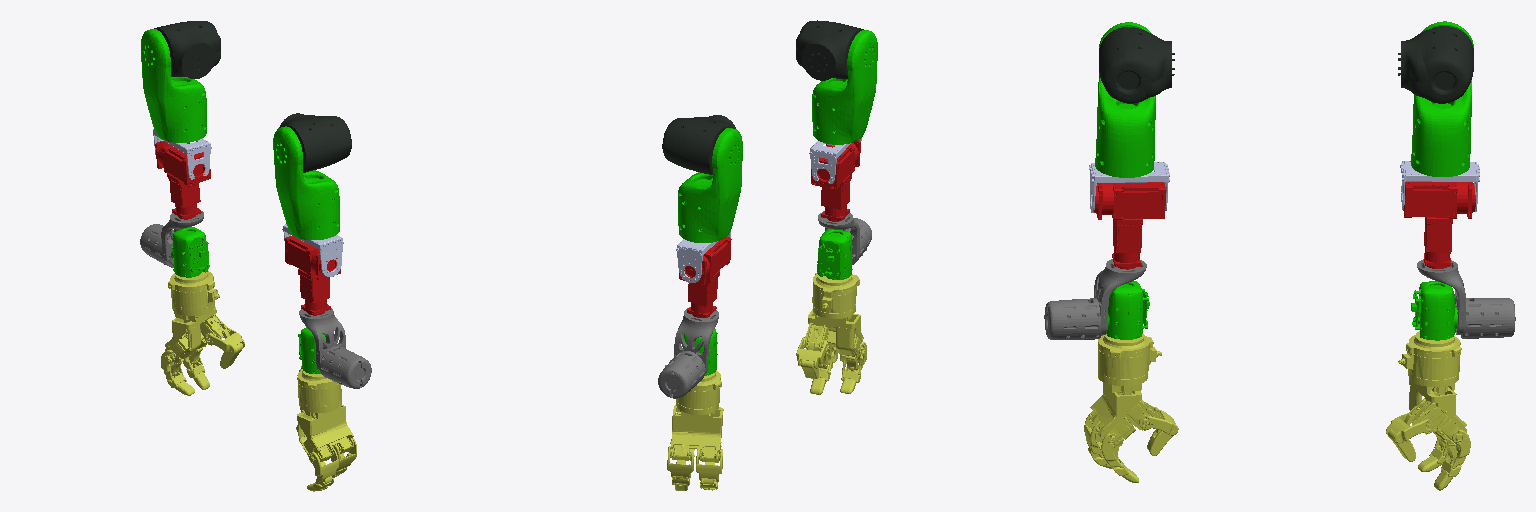
--- Render facts (derived) ---
The picture shows the robot from 3 angles, left to right: view 1: azimuth 30°, elevation 25°; view 2: azimuth 150°, elevation 25°; view 3: azimuth 270°, elevation 25°; orthographic projection.
Model transcent_urdf with 22 links and 21 joints (20 revolute, 1 fixed), rooted at world, posed every joint at zero.
Visible links, largest first — view 1: r_arm_sh_r, l_arm_sh_r, r_arm_wr_p, l_arm_wr_p, r_arm_wr_r, l_arm_sh_p1, r_arm_sh_p1, l_arm_el_y, r_arm_el_y, l_arm_wr_y, l_arm_wr_r, r_arm_sh_p2 (+6 smaller); view 2: l_arm_sh_r, r_arm_sh_r, r_arm_wr_p, l_arm_wr_p, l_arm_wr_r, r_arm_sh_p1, l_arm_sh_p1, r_arm_el_y, l_arm_el_y, r_arm_wr_y, r_arm_wr_r, l_arm_sh_p2 (+6 smaller); view 3: r_arm_wr_p, l_arm_wr_p, r_arm_sh_r, l_arm_sh_p1, l_arm_sh_r, r_arm_sh_p1, r_arm_el_y, l_arm_el_y, r_arm_wr_r, l_arm_wr_r, l_arm_wr_y, r_arm_wr_y (+6 smaller).
Link boxes in pixels (x1,y1,x2,y2): r_arm_sh_r: (273,126,339,239); l_arm_sh_r: (141,29,206,142); r_arm_wr_p: (297,369,353,461); l_arm_wr_p: (165,271,231,363); r_arm_wr_r: (299,308,371,388); l_arm_sh_p1: (154,21,220,78); r_arm_sh_p1: (279,113,351,172); l_arm_el_y: (155,141,210,219); r_arm_el_y: (284,236,340,315); l_arm_wr_y: (171,227,209,277); l_arm_wr_r: (140,211,203,267); r_arm_sh_p2: (282,224,343,276); l_arm_sh_r: (678,128,742,242); r_arm_sh_r: (812,30,877,144); r_arm_wr_p: (803,273,864,358); l_arm_wr_p: (670,370,723,462); l_arm_wr_r: (658,307,718,398); r_arm_sh_p1: (796,20,863,80); l_arm_sh_p1: (662,115,735,174); r_arm_el_y: (811,140,860,221); l_arm_el_y: (679,237,731,317); r_arm_wr_y: (817,229,852,279); r_arm_wr_r: (818,211,871,264); l_arm_sh_p2: (676,231,730,282); r_arm_wr_p: (1089,334,1161,446); l_arm_wr_p: (1398,331,1466,445); r_arm_sh_r: (1095,22,1155,177); l_arm_sh_p1: (1398,26,1473,103); l_arm_sh_r: (1411,21,1473,176); r_arm_sh_p1: (1099,27,1174,103); r_arm_el_y: (1094,182,1165,269); l_arm_el_y: (1403,182,1475,268); r_arm_wr_r: (1044,259,1146,339); l_arm_wr_r: (1417,259,1515,338); l_arm_wr_y: (1411,281,1457,340); r_arm_wr_y: (1106,281,1149,339).
Bounding box of the posed robot: 0.1686 × 0.7545 × 0.7755 m (x, y, z).
Meshes: 21 distinct files referenced, 20 mesh visuals loaded (20 binary STL); not drawn: 1 (reference not matched to a file when rendering).

robot.urdf — transcent_urdf:
<?xml version="1.0" encoding="utf-8" ?>
<!-- This URDF was automatically created by SolidWorks to URDF Exporter! Originally created by Stephen Brawner ([email redacted]) 
     Commit Version: 1.6.0-4-g7f85cfe  Build Version: 1.6.7995.38578
     For more information, please see http://wiki.ros.org/sw_urdf_exporter -->
<robot name="transcent_urdf">
    <!-- ****************************** COLORS ****************************** -->
    <material name="black">
        <color rgba="0.0 0.0 0.0 1.0" />
    </material>
    <material name="blue">
        <color rgba="0.0 1.0 1.0 1.0" />
    </material>
    <material name="green">
        <color rgba="0.0 0.8 0.0 1.0" />
    </material>
    <material name="grey">
        <color rgba="0.5 0.5 0.5 1.0" />
    </material>
    <material name="silver">
        <color rgba="0.79216 0.81961 0.93333 1" />
    </material>
    <material name="orange">
        <color rgba="0.9764705882352941 0.45098039215686275 0.023529411764705882 1.0" />
    </material>
    <material name="brown">
        <color rgba="0.396078431372549 0.21568627450980393 0.0 1.0" />
    </material>
    <material name="red">
        <color rgba="0.8 0.0 0.0 1.0" />
    </material>
    <material name="white">
        <color rgba="1.0 1.0 1.0 1.0" />
    </material>
    <material name="yellow">
        <color rgba="1.0 1.0 0.0 1.0" />
    </material>
    <material name="olive">
        <color rgba="0.4 0.4 0.2 1.0" />
    </material>
    <material name="light_blue">
        <color rgba="0.4 0.6 0.8 1.0" />
    </material>
    <material name="light_brown">
        <color rgba="0.6 0.4 0.2 1.0" />
    </material>
    <!-- ****************************** world ****************************** -->
    <link name="world" />

    <joint name="robot_to_world" type="fixed">
     <origin xyz="0.0 0.0 0.9" rpy="0.0 0.0 0" />
     <parent link="world" />
     <child link="base_link" />

    </joint>   

    <!-- ****************************** BASE ****************************** -->  
     <!-- link 2 -->  
    <link name="base_link">
        <inertial>
            <origin xyz="0.027128 -0.0010297 -0.43674" rpy="0 0 0" />
            <mass value="25" />
            <inertia ixx="1.0" ixy="0.0" ixz="0.0" iyy="1.0" iyz="0.0" izz="1.0" />
        </inertial>
        <visual>
            <origin xyz="0 0 0" rpy="0 0 0" />
            <geometry>
                <mesh filename="package://transcent_urdf/meshes/base_link.STL" />
            </geometry>
            <material name="light_blue" />
        </visual>
        <collision>
            <origin xyz="0 0 0" rpy="0 0 0" />
            <geometry>
                <mesh filename="package://transcent_urdf/meshes/base_link.STL" />
            </geometry>
        </collision>
    </link>
    <!--****************  Right Arm  ******************-->
     <!-- link 2 -->
    <link name="r_arm_sh_p1">
        <inertial>
            <origin xyz="0.43674 0.027128 -0.25094" rpy="0 0 0" />
            <mass value="0.85644" />
            <inertia ixx="1" ixy="0.0" ixz="0.0" iyy="1" iyz="0.0" izz="1" />
        </inertial>
        <visual>
            <origin xyz="0 0 0" rpy="0 0 0" />
            <geometry>
                <mesh filename="package://transcent_urdf/meshes/r_arm_sh_p1.STL" />
            </geometry>
            <material name="">
                <color rgba="0.19216 0.21961 0.2 1" />
            </material>
        </visual>
        <collision>
            <origin xyz="0 0 0" rpy="0 0 0" />
            <geometry>
                <mesh filename="package://transcent_urdf/meshes/r_arm_sh_p1.STL" />
            </geometry>
        </collision>
    </link>
    <!-- Joint 1 -->
    <joint name="r_arm_sh_p1_joint" type="revolute">
        <origin xyz="0 -0.25279 -0.0004714" rpy="-3.1416 1.5689 1.5708" />
        <parent link="base_link" />
        <child link="r_arm_sh_p1" />
        <axis xyz="0 0 1" />
        <limit lower="-1.57" upper="1.57" effort="130" velocity="3.14" />
        <dynamics damping="1.0" friction="0"/>
    </joint>
    <!-- Link3 -->
    <link name="r_arm_sh_r">
        <inertial>
            <origin xyz="-0.0045709 0.12988 -0.00049479" rpy="0 0 0" />
            <mass value="0.2" />
            <inertia ixx="1.0" ixy="0.0" ixz="0.0" iyy="1.0" iyz="0.0" izz="1.0" />
        </inertial>
        <visual>
            <origin xyz="0 0 0" rpy="0 0 0" />
            <geometry>
                <mesh filename="package://transcent_urdf/meshes/r_arm_sh_r.STL" />
            </geometry>
            <material name="">
                <color rgba="0.09216 0.81961 0.03333 1" />
            </material>
        </visual>
        <collision>
            <origin xyz="0 0 0" rpy="0 0 0" />
            <geometry>
                <mesh filename="package://transcent_urdf/meshes/r_arm_sh_r.STL" />
            </geometry>
        </collision>
    </link>
      <!-- Joint 2 -->
    <joint name="r_arm_sh_r_joint" type="revolute">
        <origin xyz="0 0 0" rpy="1.5595 1.5708 0" />
        <parent link="r_arm_sh_p1" />
        <child link="r_arm_sh_r" />
        <axis xyz="0 0 1" />
        <limit lower="0" upper="3.14" effort="130" velocity="3.14" />
        <dynamics damping="1.0" friction="0"/>
    </joint>
      <!-- Link4 -->
    <link name="r_arm_sh_p2">
        <inertial>
            <origin xyz="-0.0005817 -3.8858E-16 -0.051497" rpy="0 0 0" />
            <mass value="0.2" />
            <inertia ixx="1.0" ixy="0.0" ixz="0.0" iyy="1.0" iyz="0.0" izz="1.0" />
        </inertial>
        <visual>
            <origin xyz="0 0 0" rpy="0 0 0" />
            <geometry>
                <mesh filename="package://transcent_urdf/meshes/r_arm_sh_p2.STL" />
            </geometry>
            <material name="silver" />
        </visual>
        <collision>
            <origin xyz="0 0 0" rpy="0 0 0" />
            <geometry>
                <mesh filename="package://transcent_urdf/meshes/r_arm_sh_p2.STL" />
            </geometry>
        </collision>
    </link>
     <!-- Joint 3 -->
    <joint name="r_arm_sh_p2_joint" type="revolute">
        <origin xyz="0 0.2349 0" rpy="0 1.5595 1.606" />
        <parent link="r_arm_sh_r" />
        <child link="r_arm_sh_p2" />
        <axis xyz="0 0 1" />
        <limit lower="-2.1" upper="1.57" effort="130" velocity="3.14" />
        <dynamics damping="1.0" friction="0"/>
    </joint>
      <!-- Link5 -->
    <link name="r_arm_el_y">
        <inertial>
            <origin xyz="0.046061 -0.19389 -0.26236" rpy="0 0 0" />
            <mass value="0.2" />
            <inertia ixx="1.0" ixy="0.0" ixz="0.0" iyy="1.0" iyz="0.0" izz="1.0" />
        </inertial>
        <visual>
            <origin xyz="0 0 0" rpy="0 0 0" />
            <geometry>
                <mesh filename="package://transcent_urdf/meshes/r_arm_el_y.STL" />
            </geometry>
            <material name="">
                <color rgba="0.79216 0.11961 0.13333 1" />
            </material>
        </visual>
        <collision>
            <origin xyz="0 0 0" rpy="0 0 0" />
            <geometry>
                <mesh filename="package://transcent_urdf/meshes/r_arm_el_y.STL" />
            </geometry>
        </collision>
    </link>
      <!-- Joint 4 -->
    <joint name="r_arm_el_y_joint" type="revolute">
        <origin xyz="0 0 0" rpy="-1.572 0.030435 -0.10619" />
        <parent link="r_arm_sh_p2" />
        <child link="r_arm_el_y" />
        <axis xyz="0 0 1" />
        <limit lower="0" upper="2.1" effort="130" velocity="3.14" />
        <dynamics damping="1.0" friction="0"/>
    </joint>
  <!-- Link6 -->
    <link name="r_arm_wr_r">
        <inertial>
            <origin xyz="0.046061 -0.26236 -0.014498" rpy="0 0 0" />
            <mass value="0.2" />
            <inertia ixx="1.0" ixy="0.0" ixz="0.0" iyy="1.0" iyz="0.0" izz="1.0" />
        </inertial>
        <visual>
            <origin xyz="0 0 0" rpy="0 0 0" />
            <geometry>
                <mesh filename="package://transcent_urdf/meshes/r_arm_wr_r.STL" />
            </geometry>
            <material name="grey" />
        </visual>
        <collision>
            <origin xyz="0 0 0" rpy="0 0 0" />
            <geometry>
                <mesh filename="package://transcent_urdf/meshes/r_arm_wr_r.STL" />
            </geometry>
        </collision>
    </link>
     <!-- Joint 5 -->
    <joint name="r_arm_wr_r_joint" type="revolute">
        <origin xyz="0 -0.20839 0" rpy="1.5708 0 0" />
        <parent link="r_arm_el_y" />
        <child link="r_arm_wr_r" />
        <dynamics damping="0.1" friction="0"/>
        <axis xyz="0 0 1" />
        <limit lower="-1.57" upper="1.57" effort="100" velocity="3.14" />
        <dynamics damping="1.0" friction="0"/>
    </joint>
  <!-- end_link -->
    <link name="r_arm_wr_y">
        <inertial>
            <origin xyz="0.064521 -0.014498 0.25844" rpy="0 0 0" />
            <mass value="0.2" />
            <inertia ixx="1.0" ixy="0.0" ixz="0.0" iyy="1.0" iyz="0.0" izz="1.0" />
        </inertial>
        <visual>
            <origin xyz="0 0 0" rpy="0 0 0" />
            <geometry>
                <mesh filename="package://transcent_urdf/meshes/r_arm_wr_y.STL" />
            </geometry>
            <material name="">
                <color rgba="0.09216 0.81961 0.03333 1" />
            </material>
        </visual>
        <collision>
            <origin xyz="0 0 0" rpy="0 0 0" />
            <geometry>
                <mesh filename="package://transcent_urdf/meshes/r_arm_wr_y.STL" />
            </geometry>
        </collision>
    </link>
      <!-- Joint 6 -->
    <joint name="r_arm_wr_y_joint" type="revolute">
        <origin xyz="0 0 0" rpy="1.5708 0 -0.07086" />
        <parent link="r_arm_wr_r" />
        <child link="r_arm_wr_y" />
        <axis xyz="0 0 1" />
        <limit lower="-3.14" upper="3.14" effort="100" velocity="3.14" />
        <dynamics damping="1.0" friction="0"/>
    </joint>
    
    <link name="r_arm_wr_p">
        <inertial>
            <origin xyz="0.0035633 -0.002378 0.048742" rpy="0 0 0" />
            <mass value="0.2" />
            <inertia ixx="1.0" ixy="0.0" ixz="0.0" iyy="1.0" iyz="0.0" izz="1.0" />
        </inertial>
        <visual>
            <origin xyz="0 0 0" rpy="0 0 0" />
            <geometry>
                <mesh filename="package://transcent_urdf/meshes/r_arm_wr_p.STL" />
            </geometry>
            <material name="">
                <color rgba="0.79216 0.81961 0.33333 1" />
            </material>
        </visual>
        <collision>
            <origin xyz="0 0 0" rpy="0 0 0" />
            <geometry>
                <mesh filename="package://transcent_urdf/meshes/r_arm_wr_p.STL" />
            </geometry>
        </collision>
    </link>

      <!-- Joint 7 -->
    <joint name="r_arm_wr_p_joint" type="revolute">
        <origin xyz="0 0.10313 0" rpy="-1.5708 1.5708 0" />
        <parent link="r_arm_wr_y" />
        <child link="r_arm_wr_p" />
        <axis xyz="0 0 1" />
        <limit lower="-1.05" upper="1.05" effort="100" velocity="3.14" />
        <dynamics damping="1.0" friction="0"/>
    </joint>



    <link name="r_arm_grip_thumb">
        <inertial>
            <origin xyz="0.038901 0.0041333 -0.020268" rpy="0 0 0" />
            <mass value="0.041233" />
            <inertia ixx="1.0" ixy="0.0" ixz="0.0" iyy="1.0" iyz="0.0" izz="1.0" />
        </inertial>
        <visual>
            <origin xyz="0 0 0" rpy="0 0 0" />
            <geometry>
                <mesh filename="package://transcent_urdf/meshes/r_arm_grip_thumb.STL" />
            </geometry>
            <material name="">
                <color rgba="0.79216 0.81961 0.33333 1" />
            </material>
        </visual>
        <collision>
            <origin xyz="0 0 0" rpy="0 0 0" />
            <geometry>
                <mesh filename="package://transcent_urdf/meshes/r_arm_grip_thumb.STL" />
            </geometry>
        </collision>
    </link>

  <!-- Joint 8 -->
    <joint name="r_arm_grip_thumb_joint" type="revolute">
        <origin xyz="-0.03209 -0.046313 0.061228" rpy="-1.5708 -0.79395 3.0953" />
        <parent link="r_arm_wr_p" />
        <child link="r_arm_grip_thumb" />
        <axis xyz="0 0 1" />
        <limit lower="-3.14" upper="3.14" effort="3.7" velocity="6.28" />
        <dynamics damping="1.0" friction="0"/>
    </joint>


    <link name="r_arm_grip_index">
        <inertial>
            <origin xyz="0.021582 0.039055 -0.020254" rpy="0 0 0" />
            <mass value="0.037783" />
            <inertia ixx="1.0" ixy="0.0" ixz="0.0" iyy="1.0" iyz="0.0" izz="1.0" />
        </inertial>
        <visual>
            <origin xyz="0 0 0" rpy="0 0 0" />
            <geometry>
                <mesh filename="package://transcent_urdf/meshes/r_arm_grip_index.STL" />
            </geometry>
            <material name="">
                <color rgba="0.79216 0.81961 0.33333 1" />
            </material>
        </visual>
        <collision>
            <origin xyz="0 0 0" rpy="0 0 0" />
            <geometry>
                <mesh filename="package://transcent_urdf/meshes/r_arm_grip_index.STL" />
            </geometry>
        </collision>
    </link>

    <!-- Joint 9 -->
    <joint name="r_arm_grip_index_joint" type="revolute">
        <origin xyz="0.024624 -0.048943 0.088022" rpy="1.5708 -0.7854 -0.046338" />
        <parent link="r_arm_wr_p" />
        <child link="r_arm_grip_index" />
        <axis xyz="0 0 1" />
        <limit lower="-3.14" upper="3.14" effort="3.7" velocity="6.28" />
        <dynamics damping="1.0" friction="0"/>
    </joint>

    <link name="r_arm_grip_middle">
        <inertial>
            <origin xyz="0.032022 -0.0299 -0.02025" rpy="0 0 0" />
            <mass value="0.03778" />
            <inertia ixx="1.0" ixy="0.0" ixz="0.0" iyy="1.0" iyz="0.0" izz="1.0" />
        </inertial>
        <visual>
            <origin xyz="0 0 0" rpy="0 0 0" />
            <geometry>
                <mesh filename="package://transcent_urdf/meshes/r_arm_grip_middle.STL" />
            </geometry>
            <material name="">
                <color rgba="0.79216 0.81961 0.33333 1" />
            </material>
        </visual>
        <collision>
            <origin xyz="0 0 0" rpy="0 0 0" />
            <geometry>
                <mesh filename="package://transcent_urdf/meshes/r_arm_grip_middle.STL" />
            </geometry>
        </collision>
    </link>
    
    <joint name="r_arm_grip_middle_joint" type="revolute">
        <origin xyz="0.029001 0.045455 0.088022" rpy="-1.5708 -0.7854 -0.046338" />
        <parent link="r_arm_wr_p" />
        <child link="r_arm_grip_middle" />
        <axis xyz="0 0 1" />
        <limit lower="-3.14" upper="3.14" effort="3.7" velocity="6.28" />
        <dynamics damping="1.0" friction="0"/>
    </joint>
    <!--****************  Left Arm  ******************-->
    <link name="l_arm_sh_p1">
        <inertial>
            <origin xyz="0.43674 -0.027128 -0.25506" rpy="0 0 0" />
            <mass value="0.2" />
            <inertia ixx="1.0" ixy="0.0" ixz="0.0" iyy="1.0" iyz="0.0" izz="1.0" />
        </inertial>
        <visual>
            <origin xyz="0 0 0" rpy="0 0 0" />
            <geometry>
                <mesh filename="package://transcent_urdf/meshes/l_arm_sh_p1.STL" />
            </geometry>
            <material name="">
                <color rgba="0.19216 0.21961 0.2 1" />
            </material>
        </visual>
        <collision>
            <origin xyz="0 0 0" rpy="0 0 0" />
            <geometry>
                <mesh filename="package://transcent_urdf/meshes/l_arm_sh_p1.STL" />
            </geometry>
        </collision>
    </link>

    <joint name="l_arm_sh_p1_joint" type="revolute">
        <origin xyz="0 0.25321 0.0004722" rpy="0 1.5689 1.5708" />
        <parent link="base_link" />
        <child link="l_arm_sh_p1" />
        <axis xyz="0 0 1" />
        <limit lower="-3.14" upper="3.14" effort="130" velocity="3.14" />
        <dynamics damping="1.0" friction="0"/>
    </joint>
    <link name="l_arm_sh_r">
        <inertial>
            <origin xyz="0.0045886 -0.12991 -0.00049641" rpy="0 0 0" />
            <mass value="0.2" />
            <inertia ixx="1.0" ixy="0.0" ixz="0.0" iyy="1.0" iyz="0.0" izz="1.0" />
        </inertial>
        <visual>
            <origin xyz="0 0 0" rpy="0 0 0" />
            <geometry>
                <mesh filename="package://transcent_urdf/meshes/l_arm_sh_r.STL" />
            </geometry>
            <material name="">
                <color rgba="0.09216 0.81961 0.03333 1" />
            </material>
        </visual>
        <collision>
            <origin xyz="0 0 0" rpy="0 0 0" />
            <geometry>
                <mesh filename="package://transcent_urdf/meshes/l_arm_sh_r.STL" />
            </geometry>
        </collision>
    </link>
    <joint name="l_arm_sh_r_joint" type="revolute">
        <origin xyz="0 0 0" rpy="-1.5708 1.5708 0" />
        <parent link="l_arm_sh_p1" />
        <child link="l_arm_sh_r" />
        <axis xyz="0 0 1" />
        <limit lower="-3.14" upper="3.14" effort="130" velocity="3.14" />
        <dynamics damping="1.0" friction="0"/>
    </joint>
    <link name="l_arm_sh_p2">
        <inertial>
            <origin xyz="-1.3509E-16 -5.5511E-17 -0.05105" rpy="0 0 0" />
            <mass value="0.2" />
            <inertia ixx="1.0" ixy="0.0" ixz="0.0" iyy="1.0" iyz="0.0" izz="1.0" />
        </inertial>
        <visual>
            <origin xyz="0 0 0" rpy="0 0 0" />
            <geometry>
                <mesh filename="package://transcent_urdf/meshes/l_arm_sh_p2.STL" />
            </geometry>
            <material name="silver" />
        </visual>
        <collision>
            <origin xyz="0 0 0" rpy="0 0 0" />
            <geometry>
                <mesh filename="package://transcent_urdf/meshes/l_arm_sh_p2.STL" />
            </geometry>
        </collision>
    </link>
    <!-- JOINT3 -->
    <joint name="l_arm_sh_p2_joint" type="revolute">
        <origin xyz="0.0082954 -0.23485 -0.0005" rpy="0.01473 1.5708 -1.5208" />
        <parent link="l_arm_sh_r" />
        <child link="l_arm_sh_p2" />
        <axis xyz="0 0 1" />
        <limit lower="-3.14" upper="3.14" effort="130" velocity="3.14" />
        <dynamics damping="1.0" friction="0"/>
    </joint>
    <link name="l_arm_el_y">
        <inertial>
            <origin xyz="0.005053 0.21103 -0.24071" rpy="0 0 0" />
            <mass value="0.2" />
            <inertia ixx="1.0" ixy="0.0" ixz="0.0" iyy="1.0" iyz="0.0" izz="1.0" />
        </inertial>
        <visual>
            <origin xyz="0 0 0" rpy="0 0 0" />
            <geometry>
                <mesh filename="package://transcent_urdf/meshes/l_arm_el_y.STL" />
            </geometry>
            <material name="">
                <color rgba="0.79216 0.11961 0.13333 1" />
            </material>
        </visual>
        <collision>
            <origin xyz="0 0 0" rpy="0 0 0" />
            <geometry>
                <mesh filename="package://transcent_urdf/meshes/l_arm_el_y.STL" />
            </geometry>
        </collision>
    </link>
    <!-- JOINT4 -->
    <joint name="l_arm_el_y_joint" type="revolute">
        <origin xyz="0 0 0" rpy="1.5708 0.070191 -0.047606" />
        <parent link="l_arm_sh_p2" />
        <child link="l_arm_el_y" />
        <axis xyz="0 0 1" />
        <limit lower="-3.14" upper="3.14" effort="130" velocity="3.14" />
        <dynamics damping="1.0" friction="0"/>
    </joint>
    <link name="l_arm_wr_r">
        <inertial>
            <origin xyz="0.005053 0.24071 0.0026416" rpy="0 0 0" />
            <mass value="0.2" />
            <inertia ixx="1.0" ixy="0.0" ixz="0.0" iyy="1.0" iyz="0.0" izz="1.0" />
        </inertial>
        <visual>
            <origin xyz="0 0 0" rpy="0 0 0" />
            <geometry>
                <mesh filename="package://transcent_urdf/meshes/l_arm_wr_r.STL" />
            </geometry>
            <material name="grey" />
        </visual>
        <collision>
            <origin xyz="0 0 0" rpy="0 0 0" />
            <geometry>
                <mesh filename="package://transcent_urdf/meshes/l_arm_wr_r.STL" />
            </geometry>
        </collision>
    </link>
    <!-- JOINT5 -->
    <joint name="l_arm_wr_r_joint" type="revolute">
        <origin xyz="0 0.20839 0" rpy="-1.5708 0 0" />
        <parent link="l_arm_el_y" />
        <child link="l_arm_wr_r" />
        <axis xyz="0 0 1" />
        <limit lower="-3.14" upper="3.14" effort="100" velocity="3.14" />
        <dynamics damping="1.0" friction="0"/>
    </joint>
    <link name="l_arm_wr_y">
        <inertial>
            <origin xyz="-0.0085486 -0.0026416 0.24061" rpy="0 0 0" />
            <mass value="0.2" />
            <inertia ixx="1.0" ixy="0.0" ixz="0.0" iyy="1.0" iyz="0.0" izz="1.0" />
        </inertial>
        <visual>
            <origin xyz="0 0 0" rpy="0 0 0" />
            <geometry>
                <mesh filename="package://transcent_urdf/meshes/l_arm_wr_y.STL" />
            </geometry>
            <material name="">
                <color rgba="0.09216 0.81961 0.03333 1" />
            </material>
        </visual>
        <collision>
            <origin xyz="0 0 0" rpy="0 0 0" />
            <geometry>
                <mesh filename="package://transcent_urdf/meshes/l_arm_wr_y.STL" />
            </geometry>
        </collision>
    </link>
    <!-- JOINT6 -->
    <joint name="l_arm_wr_y_joint" type="revolute">
        <origin xyz="0 0 0" rpy="-1.5708 0 -0.056502" />
        <parent link="l_arm_wr_r" />
        <child link="l_arm_wr_y" />
        <axis xyz="0 0 1" />
        <limit lower="-3.14" upper="3.14" effort="100" velocity="3.14" />
        <dynamics damping="1.0" friction="0"/>
    </joint>
    <link name="l_arm_wr_p">
        <inertial>
            <origin xyz="-0.0038604 0.00024323 0.048771" rpy="0 0 0" />
            <mass value="0.2" />
            <inertia ixx="1.0" ixy="0.0" ixz="0.0" iyy="1.0" iyz="0.0" izz="1.0" />
        </inertial>
        <visual>
            <origin xyz="0 0 0" rpy="0 0 0" />
            <geometry>
                <mesh filename="package://transcent_urdf/meshes/l_arm_wr_p.STL" />
            </geometry>
            <material name="">
                <color rgba="0.79216 0.81961 0.33333 1" />
            </material>
        </visual>
        <collision>
            <origin xyz="0 0 0" rpy="0 0 0" />
            <geometry>
                <mesh filename="package://transcent_urdf/meshes/l_arm_wr_p.STL" />
            </geometry>
        </collision>
    </link>
    <!-- JOINT7 -->
    <joint name="l_arm_wr_p_joint" type="revolute">
        <origin xyz="-0.0023782 -0.10317 0" rpy="2.9333 -1.5708 -1.3855" />
        <parent link="l_arm_wr_y" />
        <child link="l_arm_wr_p" />
        <axis xyz="0 0 1" />
        <limit lower="-3.14" upper="3.14" effort="100" velocity="3.14" />
        <dynamics damping="1.0" friction="0"/>
    </joint>
    <link name="l_arm_grip_thumb">
        <inertial>
            <origin xyz="0.038624 -0.0062103 -0.020232" rpy="0 0 0" />
            <mass value="0.041233" />
            <inertia ixx="1.0" ixy="0.0" ixz="0.0" iyy="1.0" iyz="0.0" izz="1.0" />
        </inertial>
        <visual>
            <origin xyz="0 0 0" rpy="0 0 0" />
            <geometry>
                <mesh filename="package://transcent_urdf/meshes/l_arm_grip_thumb.STL" />
            </geometry>
            <material name="">
                <color rgba="0.79216 0.81961 0.33333 1" />
            </material>
        </visual>
        <collision>
            <origin xyz="0 0 0" rpy="0 0 0" />
            <geometry>
                <mesh filename="package://transcent_urdf/meshes/l_arm_grip_thumb.STL" />
            </geometry>
        </collision>
    </link>
    <!-- JOINT8 -->    
    <joint name="l_arm_grip_thumb_joint" type="revolute">
        <origin xyz="0.013423 -0.052958 0.061228" rpy="1.5708 -0.79395 -0.33001" />
        <parent link="l_arm_wr_p" />
        <child link="l_arm_grip_thumb" />
        <axis xyz="0 0 1" />
        <limit lower="-3.14" upper="3.14" effort="3.7" velocity="6.28" />
        <dynamics damping="1.0" friction="0"/>
    </joint>
    <link name="l_arm_grip_index">
        <inertial>
            <origin xyz="0.031429 -0.031684 -0.020246" rpy="0 0 0" />
            <mass value="0.03778" />
            <inertia ixx="1.0" ixy="0.0" ixz="0.0" iyy="1.0" iyz="0.0" izz="1.0" />
        </inertial>
        <visual>
            <origin xyz="0 0 0" rpy="0 0 0" />
            <geometry>
                <mesh filename="package://transcent_urdf/meshes/l_arm_grip_index.STL" />
            </geometry>
            <material name="">
                <color rgba="0.79216 0.81961 0.33333 1" />
            </material>
        </visual>
        <collision>
            <origin xyz="0 0 0" rpy="0 0 0" />
            <geometry>
                <mesh filename="package://transcent_urdf/meshes/l_arm_grip_index.STL" />
            </geometry>
        </collision>
    </link>
    <joint name="l_arm_grip_index_joint" type="revolute">
        <origin xyz="-0.040612 -0.035505 0.088022" rpy="-1.5708 -0.7854 2.8116" />
        <parent link="l_arm_wr_p" />
        <child link="l_arm_grip_index" />
        <axis xyz="0 0 1" />
        <limit lower="-3.14" upper="3.14" effort="3.7" velocity="6.28" />
        <dynamics damping="1.0" friction="0"/>
    </joint>
    <link name="l_arm_grip_middle">
        <inertial>
            <origin xyz="0.033722 0.027968 -0.02025" rpy="0 0 0" />
            <mass value="0.037779" />
            <inertia ixx="1.0" ixy="0.0" ixz="0.0" iyy="1.0" iyz="0.0" izz="1.0" />
        </inertial>
        <visual>
            <origin xyz="0 0 0" rpy="0 0 0" />
            <geometry>
                <mesh filename="package://transcent_urdf/meshes/l_arm_grip_middle.STL" />
            </geometry>
            <material name="">
                <color rgba="0.79216 0.81961 0.33333 1" />
            </material>
        </visual>
        <collision>
            <origin xyz="0 0 0" rpy="0 0 0" />
            <geometry>
                <mesh filename="package://transcent_urdf/meshes/l_arm_grip_middle.STL" />
            </geometry>
        </collision>
    </link>
    <joint name="l_arm_grip_middle_joint" type="revolute">
        <origin xyz="-0.0099887 0.053895 0.088022" rpy="1.5708 -0.7854 2.8116" />
        <parent link="l_arm_wr_p" />
        <child link="l_arm_grip_middle" />
        <axis xyz="0 0 1" />
        <limit lower="-3.14" upper="3.14" effort="3.7" velocity="6.28" />
        <dynamics damping="1.0" friction="0"/>
    </joint>


<!--****************  transmission  ******************-->
<!--**********************************************-->    
    <transmission name="trans_r_arm_sh_p1">
        <type>transmission_interface/SimpleTransmission</type>
        <joint name="r_arm_sh_p1_joint">
            <hardwareInterface>hardware_interface/EffortJointInterface</hardwareInterface>
        </joint>
        <actuator name="r_arm_sh_p1_motor">
            <hardwareInterface>hardware_interface/EffortJointInterface</hardwareInterface>
            <mechanicalReduction>1</mechanicalReduction>
        </actuator>
    </transmission>
    <transmission name="trans_r_arm_sh_r">
        <type>transmission_interface/SimpleTransmission</type>
        <joint name="r_arm_sh_r_joint">
            <hardwareInterface>hardware_interface/EffortJointInterface</hardwareInterface>
        </joint>
        <actuator name="r_arm_sh_r_motor">
            <hardwareInterface>hardware_interface/EffortJointInterface</hardwareInterface>
            <mechanicalReduction>1</mechanicalReduction>
        </actuator>
    </transmission>
    <transmission name="trans_r_arm_sh_p2">
        <type>transmission_interface/SimpleTransmission</type>
        <joint name="r_arm_sh_p2_joint">
            <hardwareInterface>hardware_interface/EffortJointInterface</hardwareInterface>
        </joint>
        <actuator name="r_arm_sh_p2_motor">
            <hardwareInterface>hardware_interface/EffortJointInterface</hardwareInterface>
            <mechanicalReduction>1</mechanicalReduction>
        </actuator>
    </transmission>
    <transmission name="trans_r_arm_el_y">
        <type>transmission_interface/SimpleTransmission</type>
        <joint name="r_arm_el_y_joint">
            <hardwareInterface>hardware_interface/EffortJointInterface</hardwareInterface>
        </joint>
        <actuator name="r_arm_el_y_motor">
            <hardwareInterface>hardware_interface/EffortJointInterface</hardwareInterface>
            <mechanicalReduction>1</mechanicalReduction>
        </actuator>
    </transmission>
    <transmission name="trans_r_arm_wr_r">
        <type>transmission_interface/SimpleTransmission</type>
        <joint name="r_arm_wr_r_joint">
            <hardwareInterface>hardware_interface/EffortJointInterface</hardwareInterface>
        </joint>
        <actuator name="r_arm_wr_r_motor">
            <hardwareInterface>hardware_interface/EffortJointInterface</hardwareInterface>
            <mechanicalReduction>1</mechanicalReduction>
        </actuator>
    </transmission>
    <transmission name="trans_r_arm_wr_y">
        <type>transmission_interface/SimpleTransmission</type>
        <joint name="r_arm_wr_y_joint">
            <hardwareInterface>hardware_interface/EffortJointInterface</hardwareInterface>
        </joint>
        <actuator name="r_arm_wr_y_motor">
            <hardwareInterface>hardware_interface/EffortJointInterface</hardwareInterface>
            <mechanicalReduction>1</mechanicalReduction>
        </actuator>
    </transmission>
    <transmission name="trans_r_arm_wr_p">
        <type>transmission_interface/SimpleTransmission</type>
        <joint name="r_arm_wr_p_joint">
            <hardwareInterface>hardware_interface/EffortJointInterface</hardwareInterface>
        </joint>
        <actuator name="r_arm_wr_p_motor">
            <hardwareInterface>hardware_interface/EffortJointInterface</hardwareInterface>
            <mechanicalReduction>1</mechanicalReduction>
        </actuator>
    </transmission>
    <transmission name="trans_r_arm_grip_thumb">
        <type>transmission_interface/SimpleTransmission</type>
        <joint name="r_arm_grip_thumb_joint">
            <hardwareInterface>hardware_interface/EffortJointInterface</hardwareInterface>
        </joint>
        <actuator name="r_arm_grip_thumb_motor">
            <hardwareInterface>hardware_interface/EffortJointInterface</hardwareInterface>
            <mechanicalReduction>1</mechanicalReduction>
        </actuator>
    </transmission>
    <transmission name="trans_r_arm_grip_index">
        <type>transmission_interface/SimpleTransmission</type>
        <joint name="r_arm_grip_index_joint">
            <hardwareInterface>hardware_interface/EffortJointInterface</hardwareInterface>
        </joint>
        <actuator name="r_arm_grip_index_motor">
            <hardwareInterface>hardware_interface/EffortJointInterface</hardwareInterface>
            <mechanicalReduction>1</mechanicalReduction>
        </actuator>
    </transmission>
    <transmission name="trans_r_arm_grip_middle">
        <type>transmission_interface/SimpleTransmission</type>
        <joint name="r_arm_grip_middle_joint">
            <hardwareInterface>hardware_interface/EffortJointInterface</hardwareInterface>
        </joint>
        <actuator name="r_arm_grip_middle_motor">
            <hardwareInterface>hardware_interface/EffortJointInterface</hardwareInterface>
            <mechanicalReduction>1</mechanicalReduction>
        </actuator>
    </transmission>
    <transmission name="trans_l_arm_sh_p1">
        <type>transmission_interface/SimpleTransmission</type>
        <joint name="l_arm_sh_p1_joint">
            <hardwareInterface>hardware_interface/EffortJointInterface</hardwareInterface>
        </joint>
        <actuator name="l_arm_sh_p1_motor">
            <hardwareInterface>hardware_interface/EffortJointInterface</hardwareInterface>
            <mechanicalReduction>1</mechanicalReduction>
        </actuator>
    </transmission>
    <transmission name="trans_l_arm_sh_r">
        <type>transmission_interface/SimpleTransmission</type>
        <joint name="l_arm_sh_r_joint">
            <hardwareInterface>hardware_interface/EffortJointInterface</hardwareInterface>
        </joint>
        <actuator name="l_arm_sh_r_motor">
            <hardwareInterface>hardware_interface/EffortJointInterface</hardwareInterface>
            <mechanicalReduction>1</mechanicalReduction>
        </actuator>
    </transmission>
    <transmission name="trans_l_arm_sh_p2">
        <type>transmission_interface/SimpleTransmission</type>
        <joint name="l_arm_sh_p2_joint">
            <hardwareInterface>hardware_interface/EffortJointInterface</hardwareInterface>
        </joint>
        <actuator name="l_arm_sh_p2_motor">
            <hardwareInterface>hardware_interface/EffortJointInterface</hardwareInterface>
            <mechanicalReduction>1</mechanicalReduction>
        </actuator>
    </transmission>
    <transmission name="trans_l_arm_el_y">
        <type>transmission_interface/SimpleTransmission</type>
        <joint name="l_arm_el_y_joint">
            <hardwareInterface>hardware_interface/EffortJointInterface</hardwareInterface>
        </joint>
        <actuator name="l_arm_el_y_motor">
            <hardwareInterface>hardware_interface/EffortJointInterface</hardwareInterface>
            <mechanicalReduction>1</mechanicalReduction>
        </actuator>
    </transmission>
    <transmission name="trans_l_arm_wr_r">
        <type>transmission_interface/SimpleTransmission</type>
        <joint name="l_arm_wr_r_joint">
            <hardwareInterface>hardware_interface/EffortJointInterface</hardwareInterface>
        </joint>
        <actuator name="l_arm_wr_r_motor">
            <hardwareInterface>hardware_interface/EffortJointInterface</hardwareInterface>
            <mechanicalReduction>1</mechanicalReduction>
        </actuator>
    </transmission>
    <transmission name="trans_l_arm_wr_y">
        <type>transmission_interface/SimpleTransmission</type>
        <joint name="l_arm_wr_y_joint">
            <hardwareInterface>hardware_interface/EffortJointInterface</hardwareInterface>
        </joint>
        <actuator name="l_arm_wr_y_motor">
            <hardwareInterface>hardware_interface/EffortJointInterface</hardwareInterface>
            <mechanicalReduction>1</mechanicalReduction>
        </actuator>
    </transmission>
    <transmission name="trans_l_arm_wr_p">
        <type>transmission_interface/SimpleTransmission</type>
        <joint name="l_arm_wr_p_joint">
            <hardwareInterface>hardware_interface/EffortJointInterface</hardwareInterface>
        </joint>
        <actuator name="l_arm_wr_p_motor">
            <hardwareInterface>hardware_interface/EffortJointInterface</hardwareInterface>
            <mechanicalReduction>1</mechanicalReduction>
        </actuator>
    </transmission>
    <transmission name="trans_l_arm_grip_thumb">
        <type>transmission_interface/SimpleTransmission</type>
        <joint name="l_arm_grip_thumb_joint">
            <hardwareInterface>hardware_interface/EffortJointInterface</hardwareInterface>
        </joint>
        <actuator name="l_arm_grip_thumb_motor">
            <hardwareInterface>hardware_interface/EffortJointInterface</hardwareInterface>
            <mechanicalReduction>1</mechanicalReduction>
        </actuator>
    </transmission>
    <transmission name="trans_l_arm_grip_index">
        <type>transmission_interface/SimpleTransmission</type>
        <joint name="l_arm_grip_index_joint">
            <hardwareInterface>hardware_interface/EffortJointInterface</hardwareInterface>
        </joint>
        <actuator name="l_arm_grip_index_motor">
            <hardwareInterface>hardware_interface/EffortJointInterface</hardwareInterface>
            <mechanicalReduction>1</mechanicalReduction>
        </actuator>
    </transmission>
    <transmission name="trans_l_arm_grip_middle">
        <type>transmission_interface/SimpleTransmission</type>
        <joint name="l_arm_grip_middle_joint">
            <hardwareInterface>hardware_interface/EffortJointInterface</hardwareInterface>
        </joint>
        <actuator name="l_arm_grip_middle_motor">
            <hardwareInterface>hardware_interface/EffortJointInterface</hardwareInterface>
            <mechanicalReduction>1</mechanicalReduction>
        </actuator>
    </transmission>

    <gazebo>
        <plugin name="gazebo_ros_control" filename="libgazebo_ros_control.so">
            <robotNamespace>/</robotNamespace>
        </plugin>
    </gazebo>
</robot>
